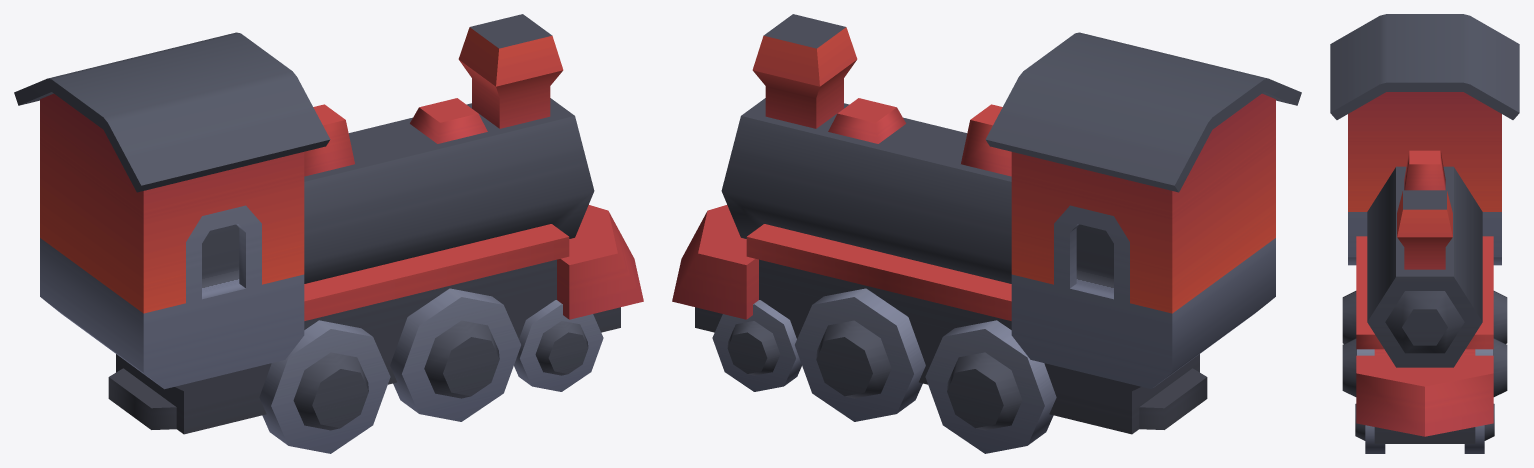
The model's file is train-locomotive.obj.
The picture shows the model from 3 angles, left to right: view 1: azimuth 30°, elevation 25°; view 2: azimuth 150°, elevation 25°; view 3: azimuth 270°, elevation 25°; orthographic projection. The views are drawn at different scales.
Parts seen in each view (by area): view 1: train-locomotive; view 2: train-locomotive; view 3: train-locomotive.
Boxes of the visible parts, box(x1,y1,x2,y2) form: train-locomotive: box(14, 14, 643, 453); train-locomotive: box(672, 14, 1301, 453); train-locomotive: box(1330, 14, 1519, 453).
Size of the model in its own units: 0.6695 by 0.4283 by 0.2652.
1 material, 1 textured.
